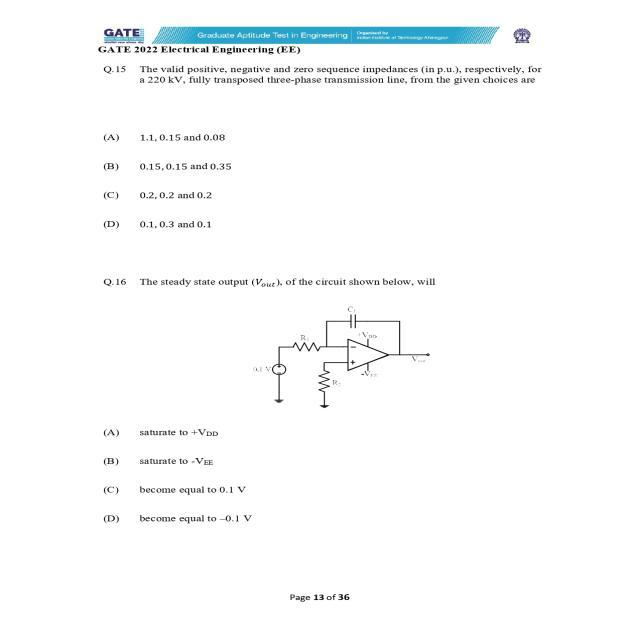Answer_Block: (50, 101, 571, 254), (50, 418, 571, 540)
Question_Block: (50, 260, 571, 416), (50, 56, 571, 98)
Question_Paper_Area: (50, 57, 571, 540), (50, 260, 571, 540), (50, 56, 571, 254)
